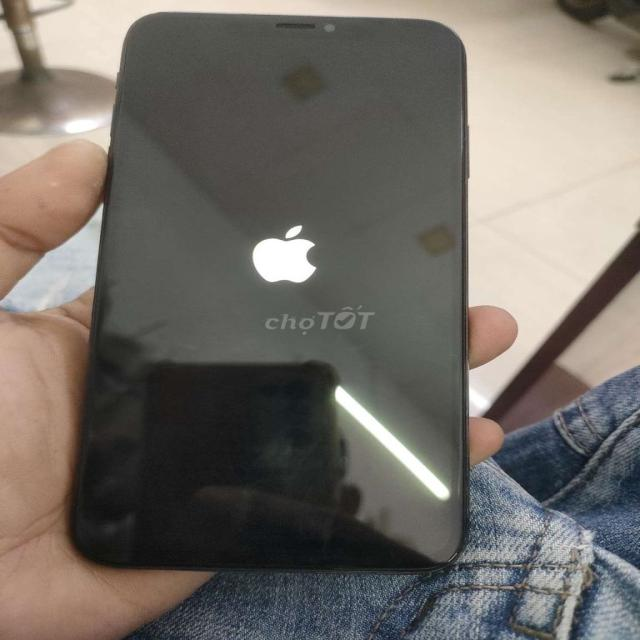gen_x_xs: (61, 11, 468, 579)
